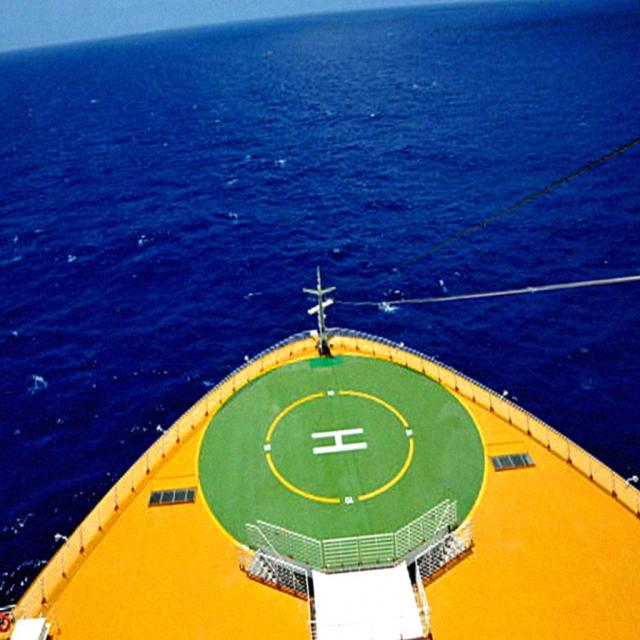helipad: (261, 385, 417, 504)
